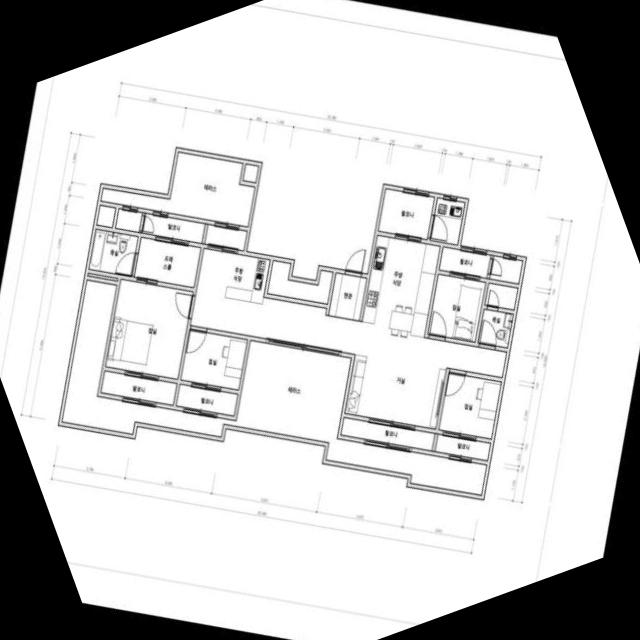background: (0, 0, 640, 640)
space_balconi: (62, 280, 486, 495), (101, 153, 255, 227), (341, 418, 435, 451), (379, 189, 435, 239), (101, 371, 177, 405), (176, 385, 238, 416), (142, 214, 205, 243), (440, 247, 491, 278), (435, 435, 490, 461)
space_bedroom: (106, 280, 193, 379), (439, 373, 501, 439), (181, 330, 247, 390), (428, 275, 486, 342)
space_dressroom: (135, 238, 201, 288)
space_front: (329, 273, 366, 322)
space_kitchen: (362, 236, 440, 338), (196, 249, 270, 304), (430, 198, 465, 245)
space_living_room: (191, 293, 506, 429)
space_other: (268, 261, 333, 304), (205, 225, 247, 251), (490, 256, 523, 284), (116, 209, 142, 232), (97, 206, 115, 227), (243, 164, 258, 183), (88, 274, 118, 281)
space_toilet: (89, 230, 138, 276), (478, 310, 513, 348), (485, 284, 518, 310)
